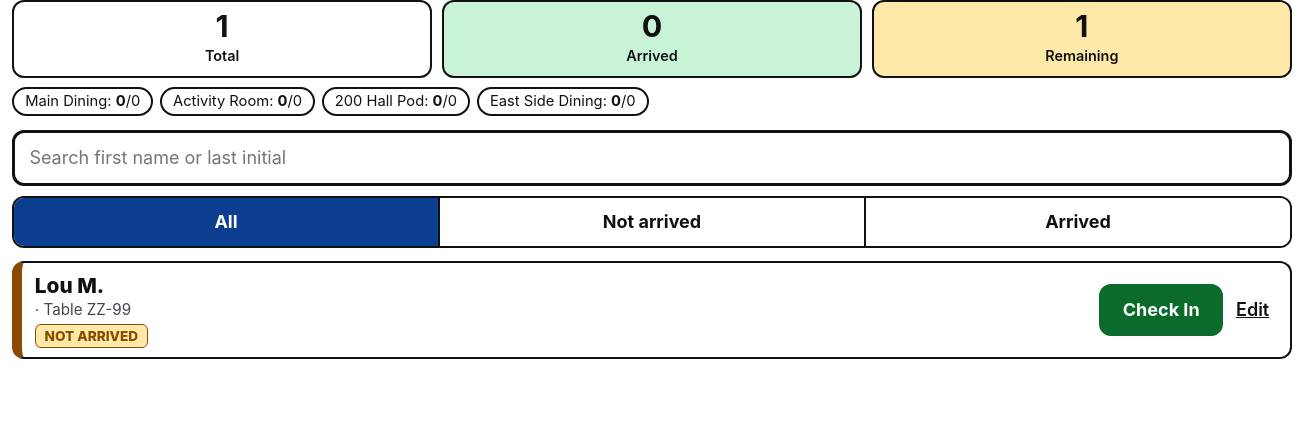
Test: Guests list: tap to locate › a guest whose table is missing/outdated shows a notice and does not navigate
Step 1. Click the text "Lou M." → (70, 286), box [35,273,104,298]
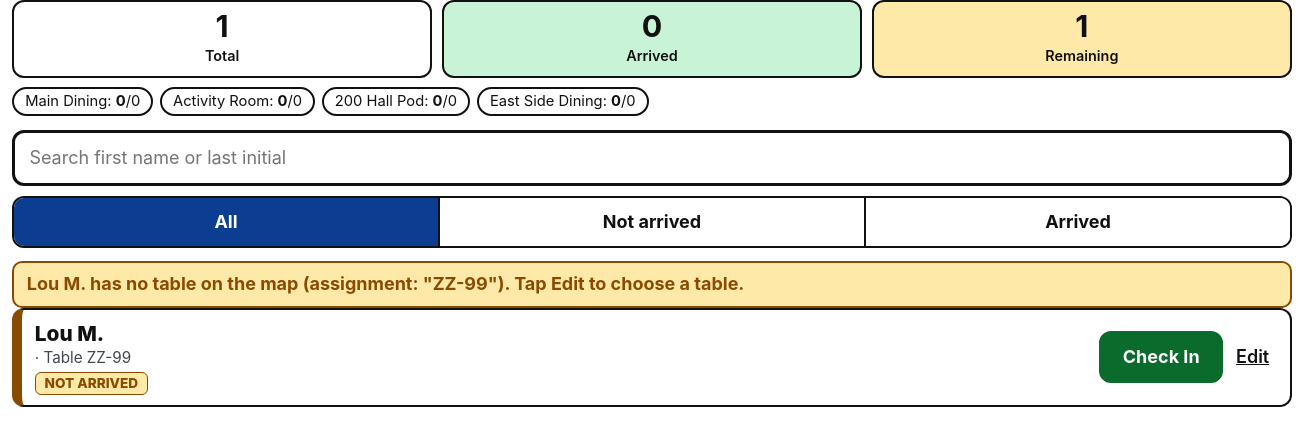
Result: the message shows "no table on the map" at [27,273,744,294]
